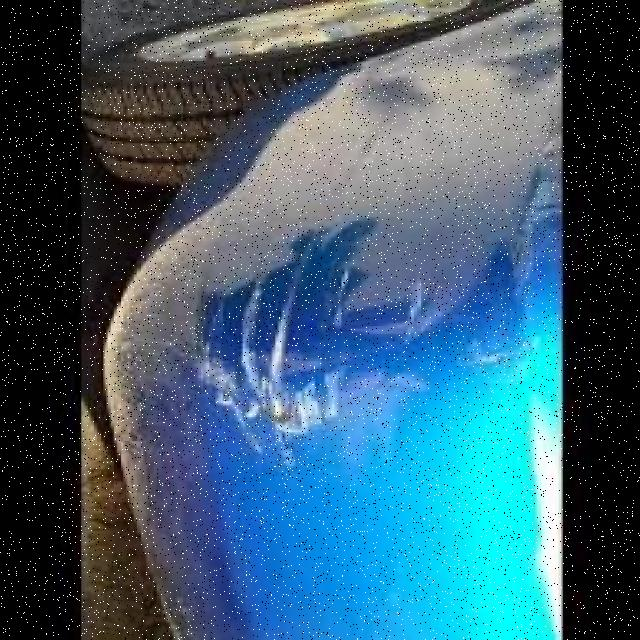damage: (187, 220, 344, 474)
